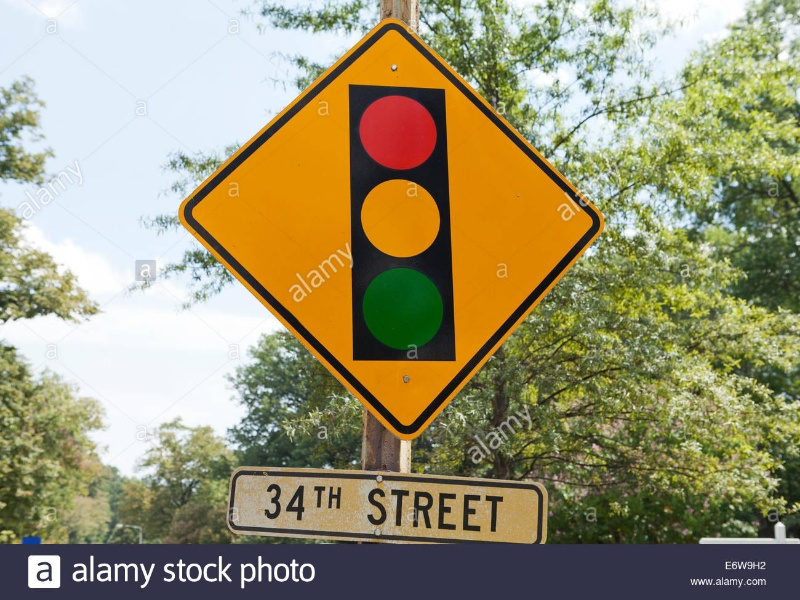traffic signal sign: (174, 15, 607, 443)
